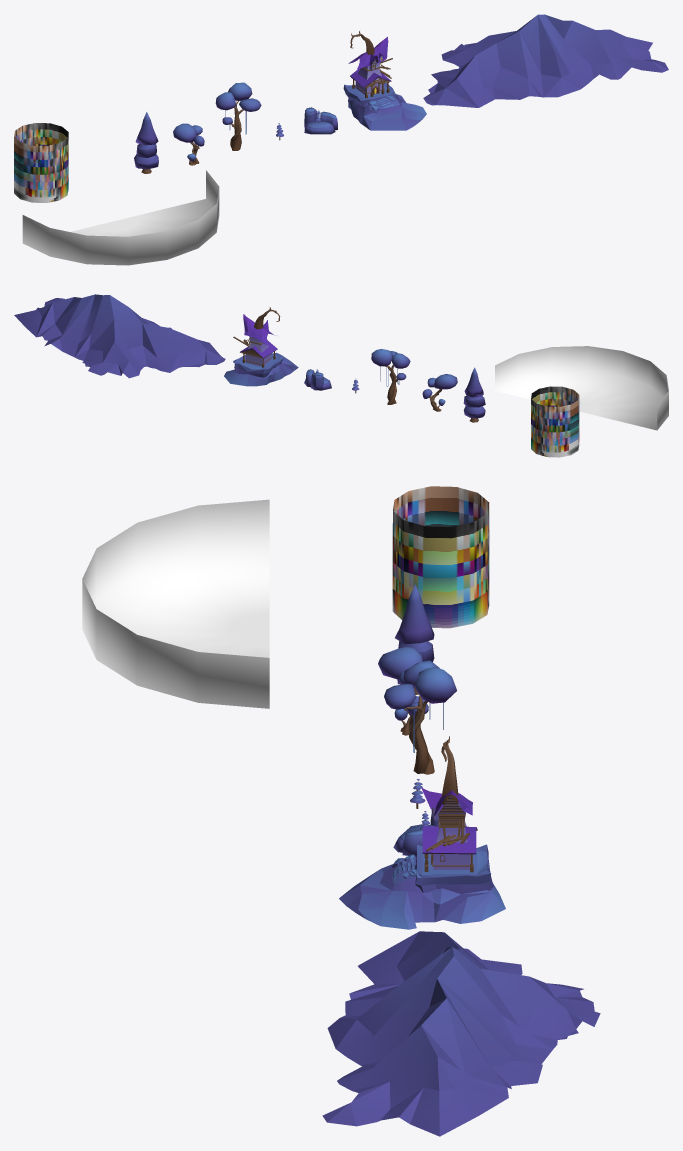
The model's file is assets_t3_a4.fbx.
The picture shows the model from 3 angles, top to bottom: view 1: azimuth 30°, elevation 25°; view 2: azimuth 150°, elevation 25°; view 3: azimuth 270°, elevation 25°; orthographic projection. The views are drawn at different scales.
Parts seen in each view (by area): view 1: Sorcerer_04, Sorcerer_20, Sorcerer_14, Sorcerer_19, Sorcerer_05, Sorcerer_18, Sorcerer_16, Sorcerer_06; view 2: Sorcerer_04, Sorcerer_20, Sorcerer_14, Sorcerer_19, Sorcerer_05, Sorcerer_18, Sorcerer_06, Sorcerer_16; view 3: Sorcerer_04, Sorcerer_20, Sorcerer_14, Sorcerer_19, Sorcerer_05, Sorcerer_18, Sorcerer_21, Sorcerer_06.
Boxes of the visible parts, bbox=[...] form: Sorcerer_04: bbox=[423, 14, 668, 107]; Sorcerer_20: bbox=[22, 170, 219, 265]; Sorcerer_14: bbox=[14, 123, 68, 202]; Sorcerer_19: bbox=[343, 37, 426, 130]; Sorcerer_05: bbox=[215, 82, 261, 150]; Sorcerer_18: bbox=[134, 112, 158, 173]; Sorcerer_16: bbox=[304, 107, 337, 134]; Sorcerer_06: bbox=[173, 123, 204, 165]; Sorcerer_04: bbox=[14, 294, 225, 378]; Sorcerer_20: bbox=[495, 346, 668, 430]; Sorcerer_14: bbox=[531, 386, 579, 457]; Sorcerer_19: bbox=[224, 314, 298, 386]; Sorcerer_05: bbox=[371, 349, 410, 404]; Sorcerer_18: bbox=[463, 367, 485, 422]; Sorcerer_06: bbox=[422, 374, 457, 411]; Sorcerer_16: bbox=[304, 369, 331, 390]; Sorcerer_04: bbox=[322, 931, 600, 1136]; Sorcerer_20: bbox=[82, 499, 269, 708]; Sorcerer_14: bbox=[392, 486, 489, 628]; Sorcerer_19: bbox=[339, 788, 505, 929]; Sorcerer_05: bbox=[384, 660, 456, 774]; Sorcerer_18: bbox=[395, 584, 434, 694]; Sorcerer_21: bbox=[426, 736, 469, 851]; Sorcerer_06: bbox=[378, 647, 424, 735].
Size of the model in its own units: 598 by 69.45 by 224.
